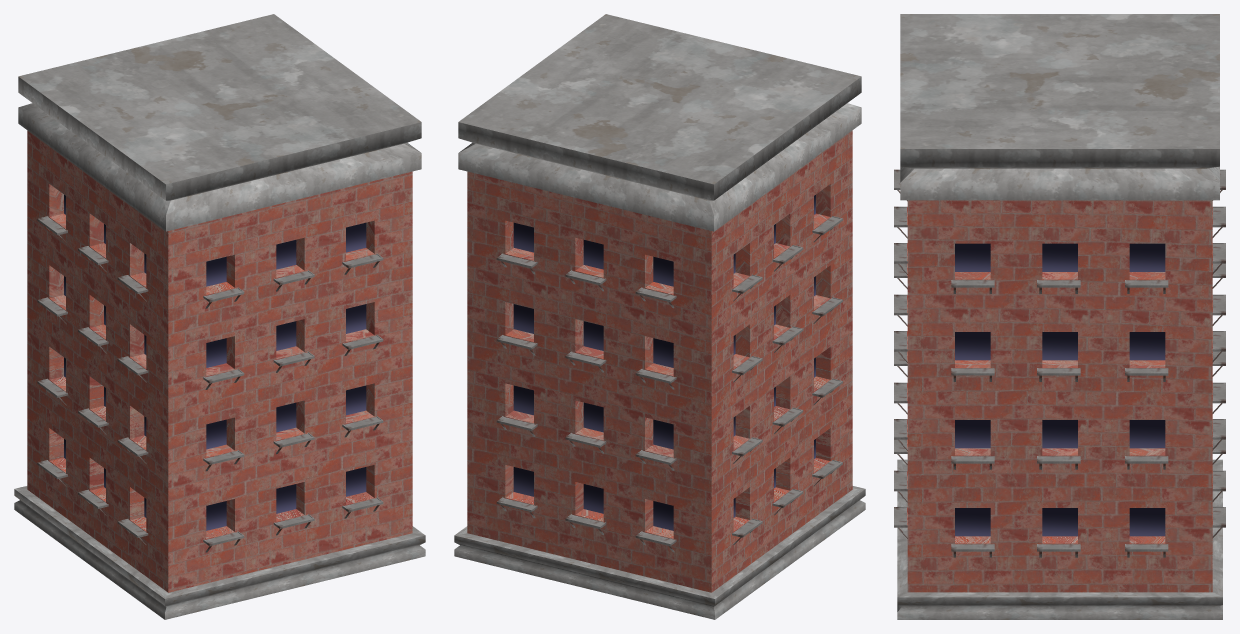
The model's file is building_aNEW.fbx.
3 views of the same model, side by side, from view 1: azimuth 30°, elevation 25°; view 2: azimuth 150°, elevation 25°; view 3: azimuth 270°, elevation 25° (orthographic). The views are drawn at different scales.
Parts seen in each view (by area): view 1: Box003; view 2: Box003; view 3: Box003.
Part boxes in pixels (bbox=[...]): Box003: bbox=[14, 14, 425, 619]; Box003: bbox=[454, 14, 865, 619]; Box003: bbox=[894, 14, 1225, 619].
Size of the model in its own units: 65.1 by 102 by 65.24.
